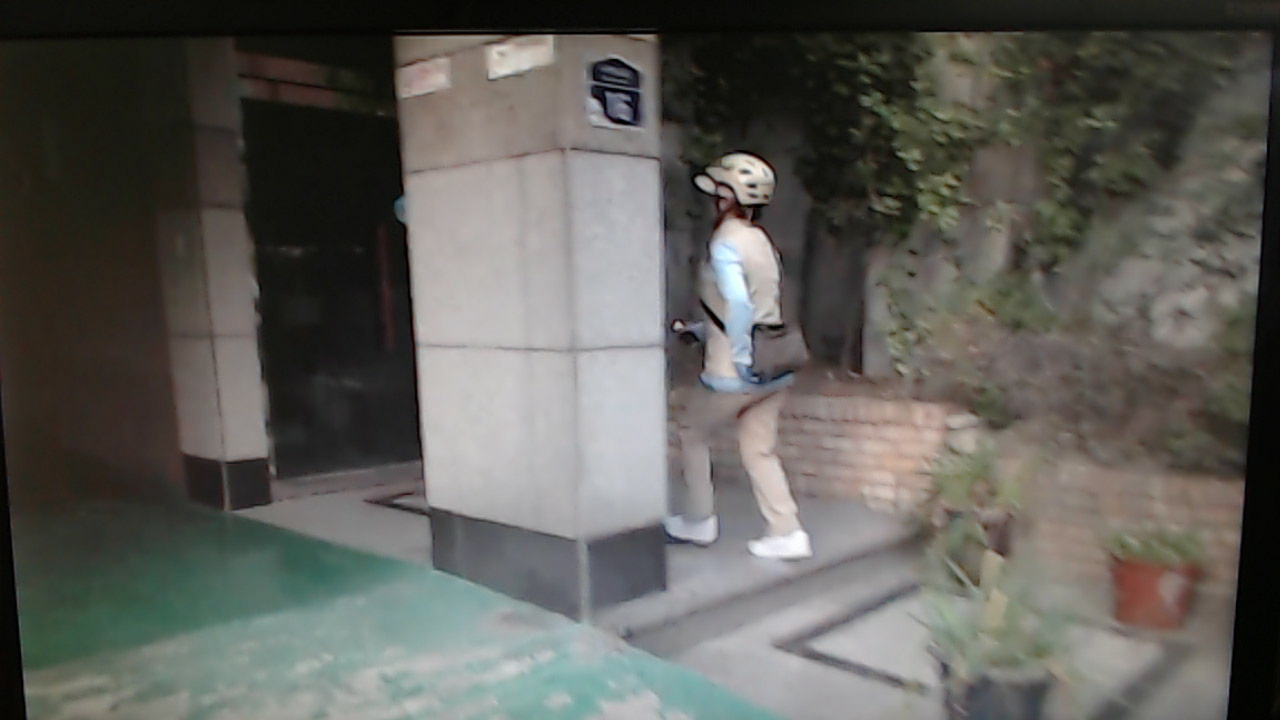Yakurut: (671, 146, 828, 575)
